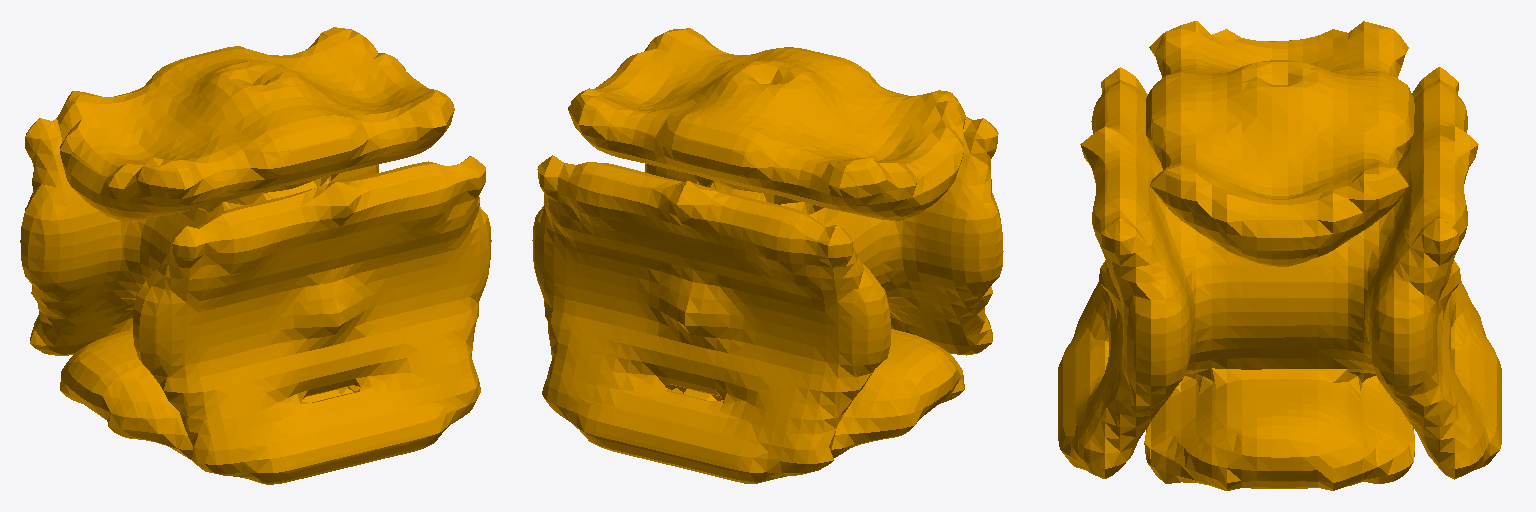
The robot description file, URDF, robot "M16_0":
<?xml version="1.0"?>
<robot name="M16_0">
  <link name="base_link">
    <visual>
      <geometry>
        <mesh filename="../../../../meshes/egad/train/M16_0.obj" />
      </geometry>
    </visual>
  </link>
</robot>

--- Facts derived from the render (not from the file) ---
The picture shows the robot from 3 angles, left to right: view 1: azimuth 30°, elevation 25°; view 2: azimuth 150°, elevation 25°; view 3: azimuth 270°, elevation 25°; orthographic projection.
Robot: M16_0 — 1 links, 0 joints (none); root link base_link; default pose: all joints at 0.
Visible links, largest first — view 1: base_link; view 2: base_link; view 3: base_link.
Link boxes in pixels (box(x1,y1,x2,y2)): base_link: box(20, 27, 491, 484); base_link: box(532, 28, 1003, 483); base_link: box(1058, 21, 1501, 490).
Size in the robot's own frame: 0.0605 by 0.0606 by 0.0599 metres.
1 mesh visuals loaded from 1 distinct referenced files (1 OBJ).